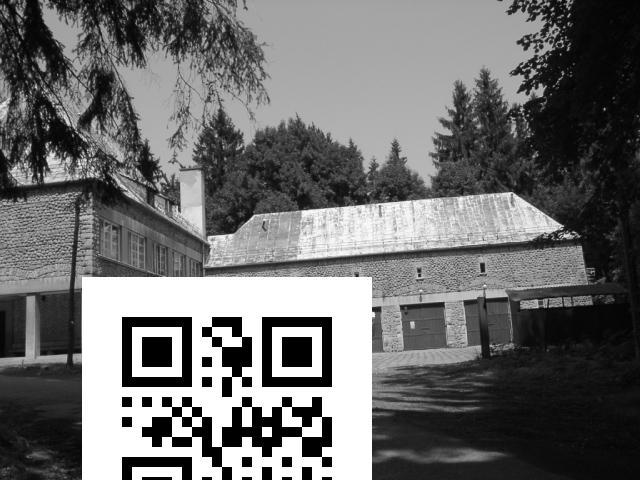qr_code: (112, 303, 341, 480)
